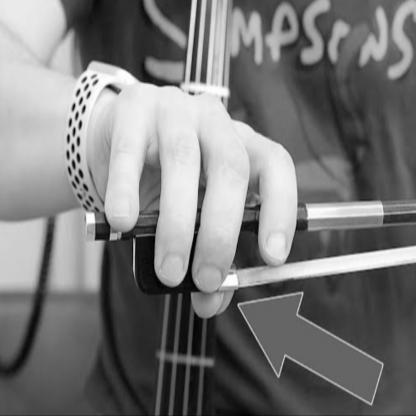good: (106, 70, 302, 300)
